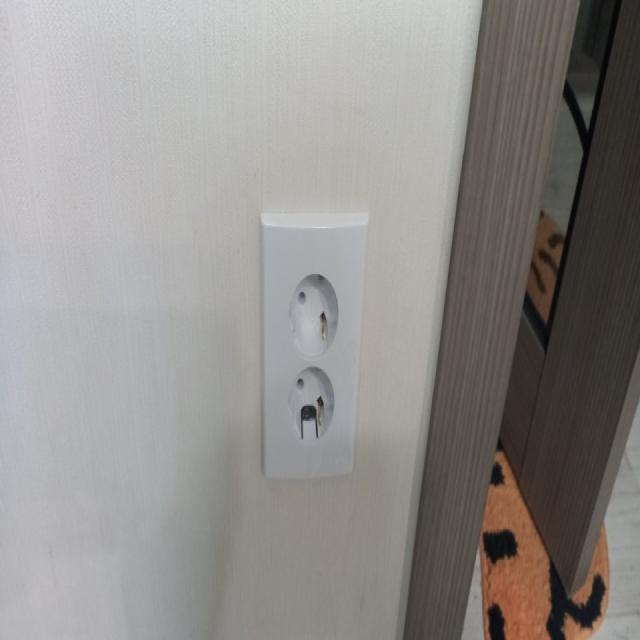typeb: (252, 147, 407, 574)
